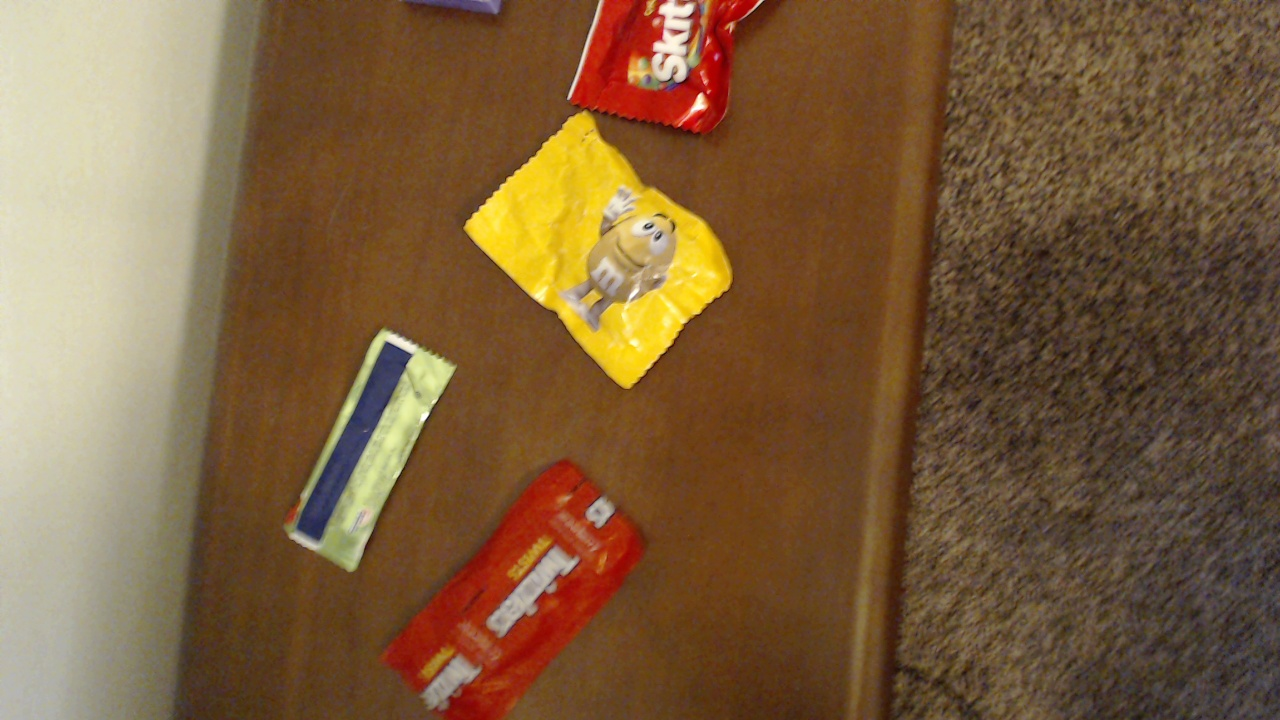MMs_regular: (444, 89, 731, 386)
airheads: (279, 328, 461, 565)
skittles: (555, 0, 801, 132)
twizzlers: (394, 462, 659, 713)
